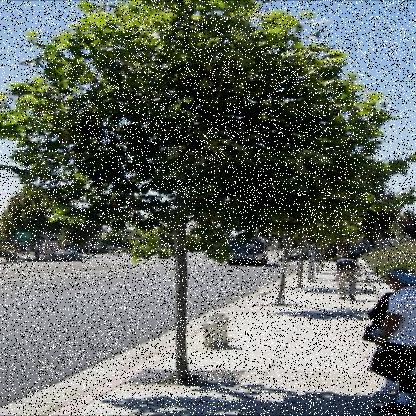Tree: (1, 0, 389, 392), (230, 127, 336, 306), (280, 117, 341, 291), (3, 172, 80, 258)
